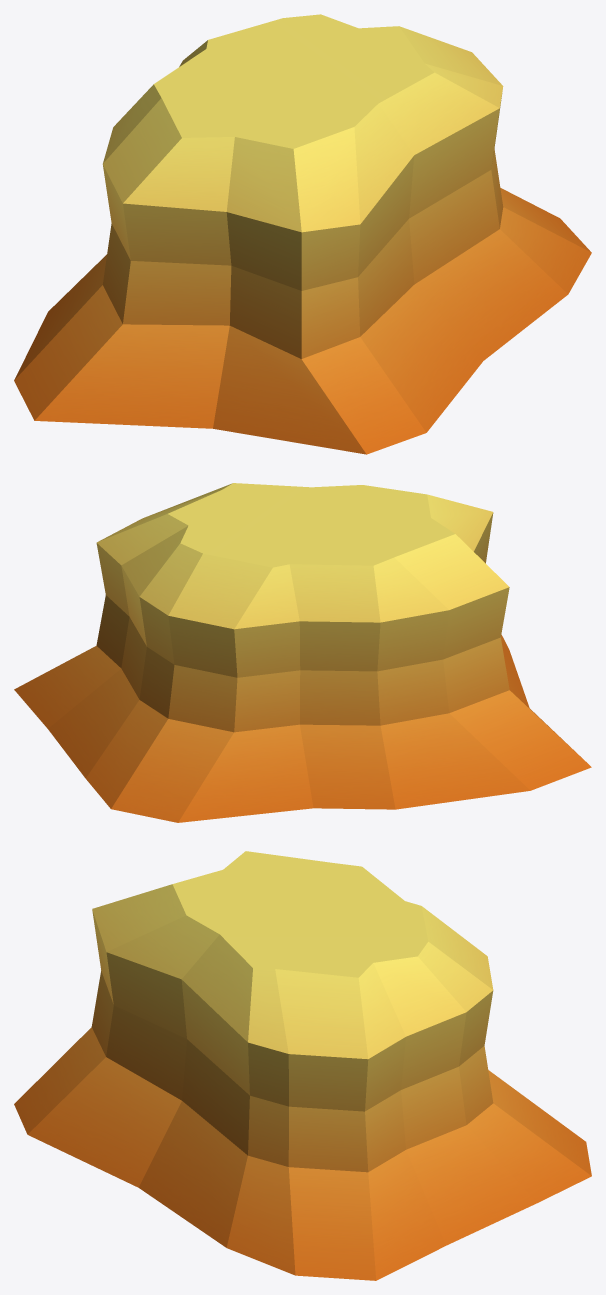
The model's file is M_mountain_A.fbx.
3 views of the same model, one above another, from view 1: azimuth 30°, elevation 25°; view 2: azimuth 150°, elevation 25°; view 3: azimuth 270°, elevation 25° (orthographic). The views are drawn at different scales.
Parts seen in each view (by area): view 1: mountain_A; view 2: mountain_A; view 3: mountain_A.
Boxes of the visible parts, box(x1,y1,x2,y2) form: mountain_A: box(14, 14, 591, 454); mountain_A: box(14, 483, 591, 822); mountain_A: box(14, 851, 591, 1280).
Size of the model in its own units: 11824 by 4520 by 10511.
